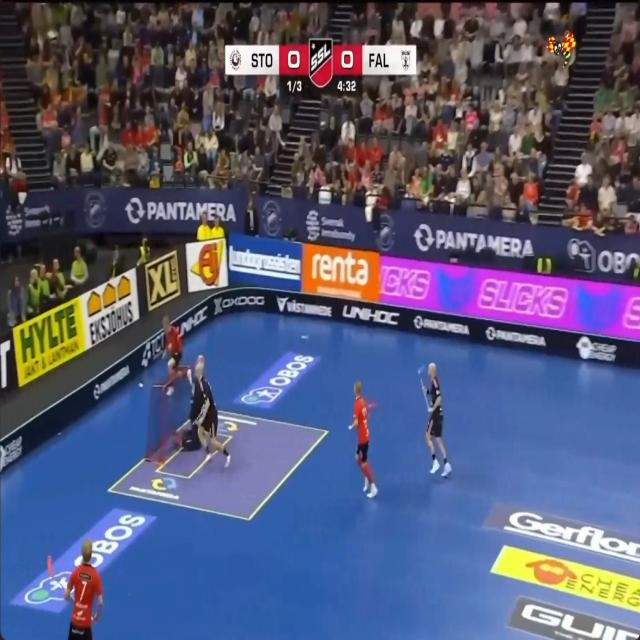player: (189, 356, 230, 466), (65, 539, 103, 639), (349, 380, 378, 496), (425, 363, 451, 477), (162, 315, 182, 395)
stick: (418, 366, 432, 412)
